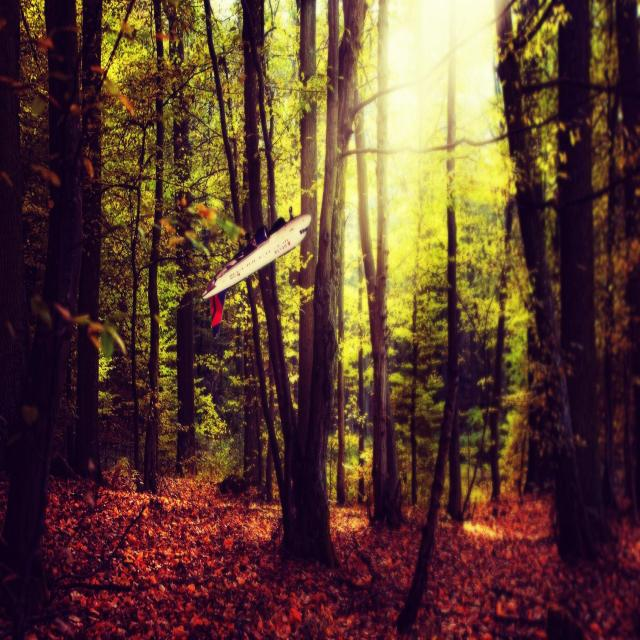airplane: (201, 206, 312, 338)
